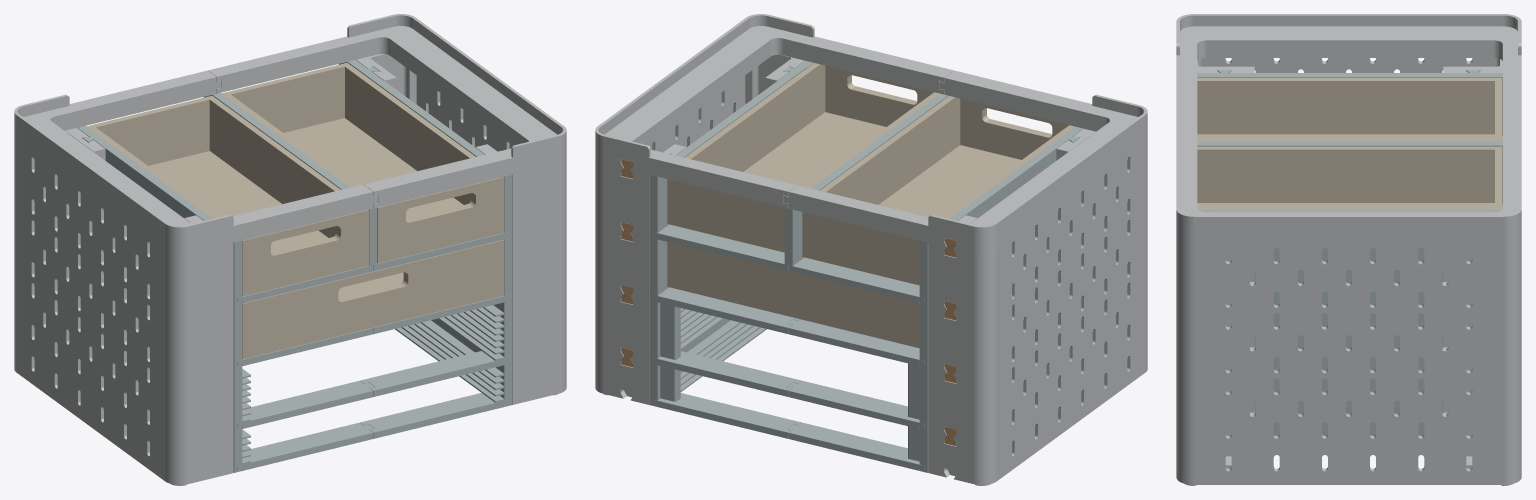
Rendered from stacknest-no-ht-pegboard.glb.
3 views of the same model, side by side, from view 1: azimuth 30°, elevation 25°; view 2: azimuth 150°, elevation 25°; view 3: azimuth 270°, elevation 25° (orthographic). The views are drawn at different scales.
Parts seen in each view (by area): view 1: 2-drawer-layer__drawer_2, 2-drawer-layer__drawer_1, device-top__top_2, device-top__top_1, 1-drawer-layer__drawer_half_1, 2-drawer-layer__end_left_1, 1-drawer-layer__end_left_1, 8-slot-plate-layer__end_left, 5-slot-plate-layer__end_left, 2-drawer-layer__end_right_1, 8-slot-plate-layer__end_right, 1-drawer-layer__end_right_1 (+17 smaller); view 2: 2-drawer-layer__drawer_2, 2-drawer-layer__drawer_1, device-top__top_2, device-top__top_1, 2-drawer-layer__end_left_1, 1-drawer-layer__end_left_1, 8-slot-plate-layer__end_left, 1-drawer-layer__drawer_half_2, 5-slot-plate-layer__end_left, 2-drawer-layer__end_right_1, 8-slot-plate-layer__end_right, 1-drawer-layer__end_right_1 (+18 smaller); view 3: 1-drawer-layer__end_right_1, 8-slot-plate-layer__end_right, 2-drawer-layer__end_right_1, 2-drawer-layer__drawer_2, 2-drawer-layer__drawer_1, device-top__top_1, device-top__top_2, 5-slot-plate-layer__end_right, 2-drawer-layer__end_left_1, 2-drawer-layer__divider_1, 2-drawer-layer__side_left, 2-drawer-layer__side_right (+3 smaller).
Part boxes in pixels (<box>): 2-drawer-layer__drawer_2: <box>221,62,503,263</box>; 2-drawer-layer__drawer_1: <box>86,95,368,296</box>; device-top__top_2: <box>208,14,566,208</box>; device-top__top_1: <box>14,70,378,254</box>; 1-drawer-layer__drawer_half_1: <box>242,239,503,359</box>; 2-drawer-layer__end_left_1: <box>14,128,233,317</box>; 1-drawer-layer__end_left_1: <box>14,203,233,380</box>; 8-slot-plate-layer__end_left: <box>14,265,233,442</box>; 5-slot-plate-layer__end_left: <box>14,328,233,485</box>; 2-drawer-layer__end_right_1: <box>356,54,566,237</box>; 8-slot-plate-layer__end_right: <box>512,284,566,362</box>; 1-drawer-layer__end_right_1: <box>512,221,566,299</box>; 2-drawer-layer__drawer_2: <box>667,63,939,252</box>; 2-drawer-layer__drawer_1: <box>802,96,1074,285</box>; device-top__top_2: <box>595,14,953,208</box>; device-top__top_1: <box>783,70,1147,254</box>; 2-drawer-layer__end_left_1: <box>928,129,1147,317</box>; 1-drawer-layer__end_left_1: <box>928,203,1147,380</box>; 8-slot-plate-layer__end_left: <box>928,265,1147,442</box>; 1-drawer-layer__drawer_half_2: <box>667,242,919,348</box>; 5-slot-plate-layer__end_left: <box>928,328,1147,485</box>; 2-drawer-layer__end_right_1: <box>595,54,804,237</box>; 8-slot-plate-layer__end_right: <box>595,284,649,362</box>; 1-drawer-layer__end_right_1: <box>595,221,649,299</box>; 1-drawer-layer__end_right_1: <box>1176,295,1521,375</box>; 8-slot-plate-layer__end_right: <box>1176,360,1521,441</box>; 2-drawer-layer__end_right_1: <box>1176,238,1521,310</box>; 2-drawer-layer__drawer_2: <box>1197,146,1502,210</box>; 2-drawer-layer__drawer_1: <box>1197,78,1502,141</box>; device-top__top_1: <box>1176,14,1521,126</box>; device-top__top_2: <box>1176,126,1521,245</box>; 5-slot-plate-layer__end_right: <box>1176,426,1521,485</box>; 2-drawer-layer__end_left_1: <box>1197,58,1502,72</box>; 2-drawer-layer__divider_1: <box>1197,141,1502,204</box>; 2-drawer-layer__side_left: <box>1197,70,1502,135</box>; 2-drawer-layer__side_right: <box>1199,210,1500,279</box>.
Size of the model in its own units: 0.399 by 0.249 by 0.287.
